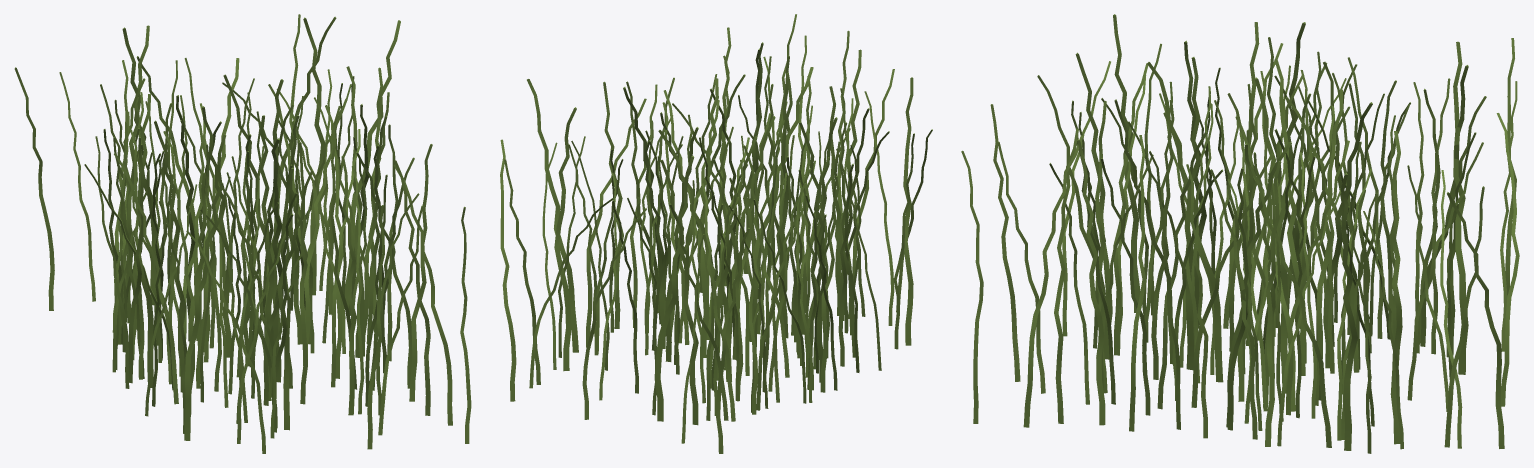
The model's file is plant_swamp_algea_long_straight_dense_B.fbx.
The picture shows the model from 3 angles, left to right: view 1: azimuth 30°, elevation 25°; view 2: azimuth 150°, elevation 25°; view 3: azimuth 270°, elevation 25°; orthographic projection. The views are drawn at different scales.
Visible parts, largest first — view 1: plant_swamp_algea_long_straight_dense_B; view 2: plant_swamp_algea_long_straight_dense_B; view 3: plant_swamp_algea_long_straight_dense_B.
Part boxes in pixels (x1=…): plant_swamp_algea_long_straight_dense_B: x1=14, y1=14, x2=471, y2=453; plant_swamp_algea_long_straight_dense_B: x1=500, y1=14, x2=932, y2=453; plant_swamp_algea_long_straight_dense_B: x1=961, y1=14, x2=1519, y2=453.
Size of the model in its own units: 311 by 261 by 419.
